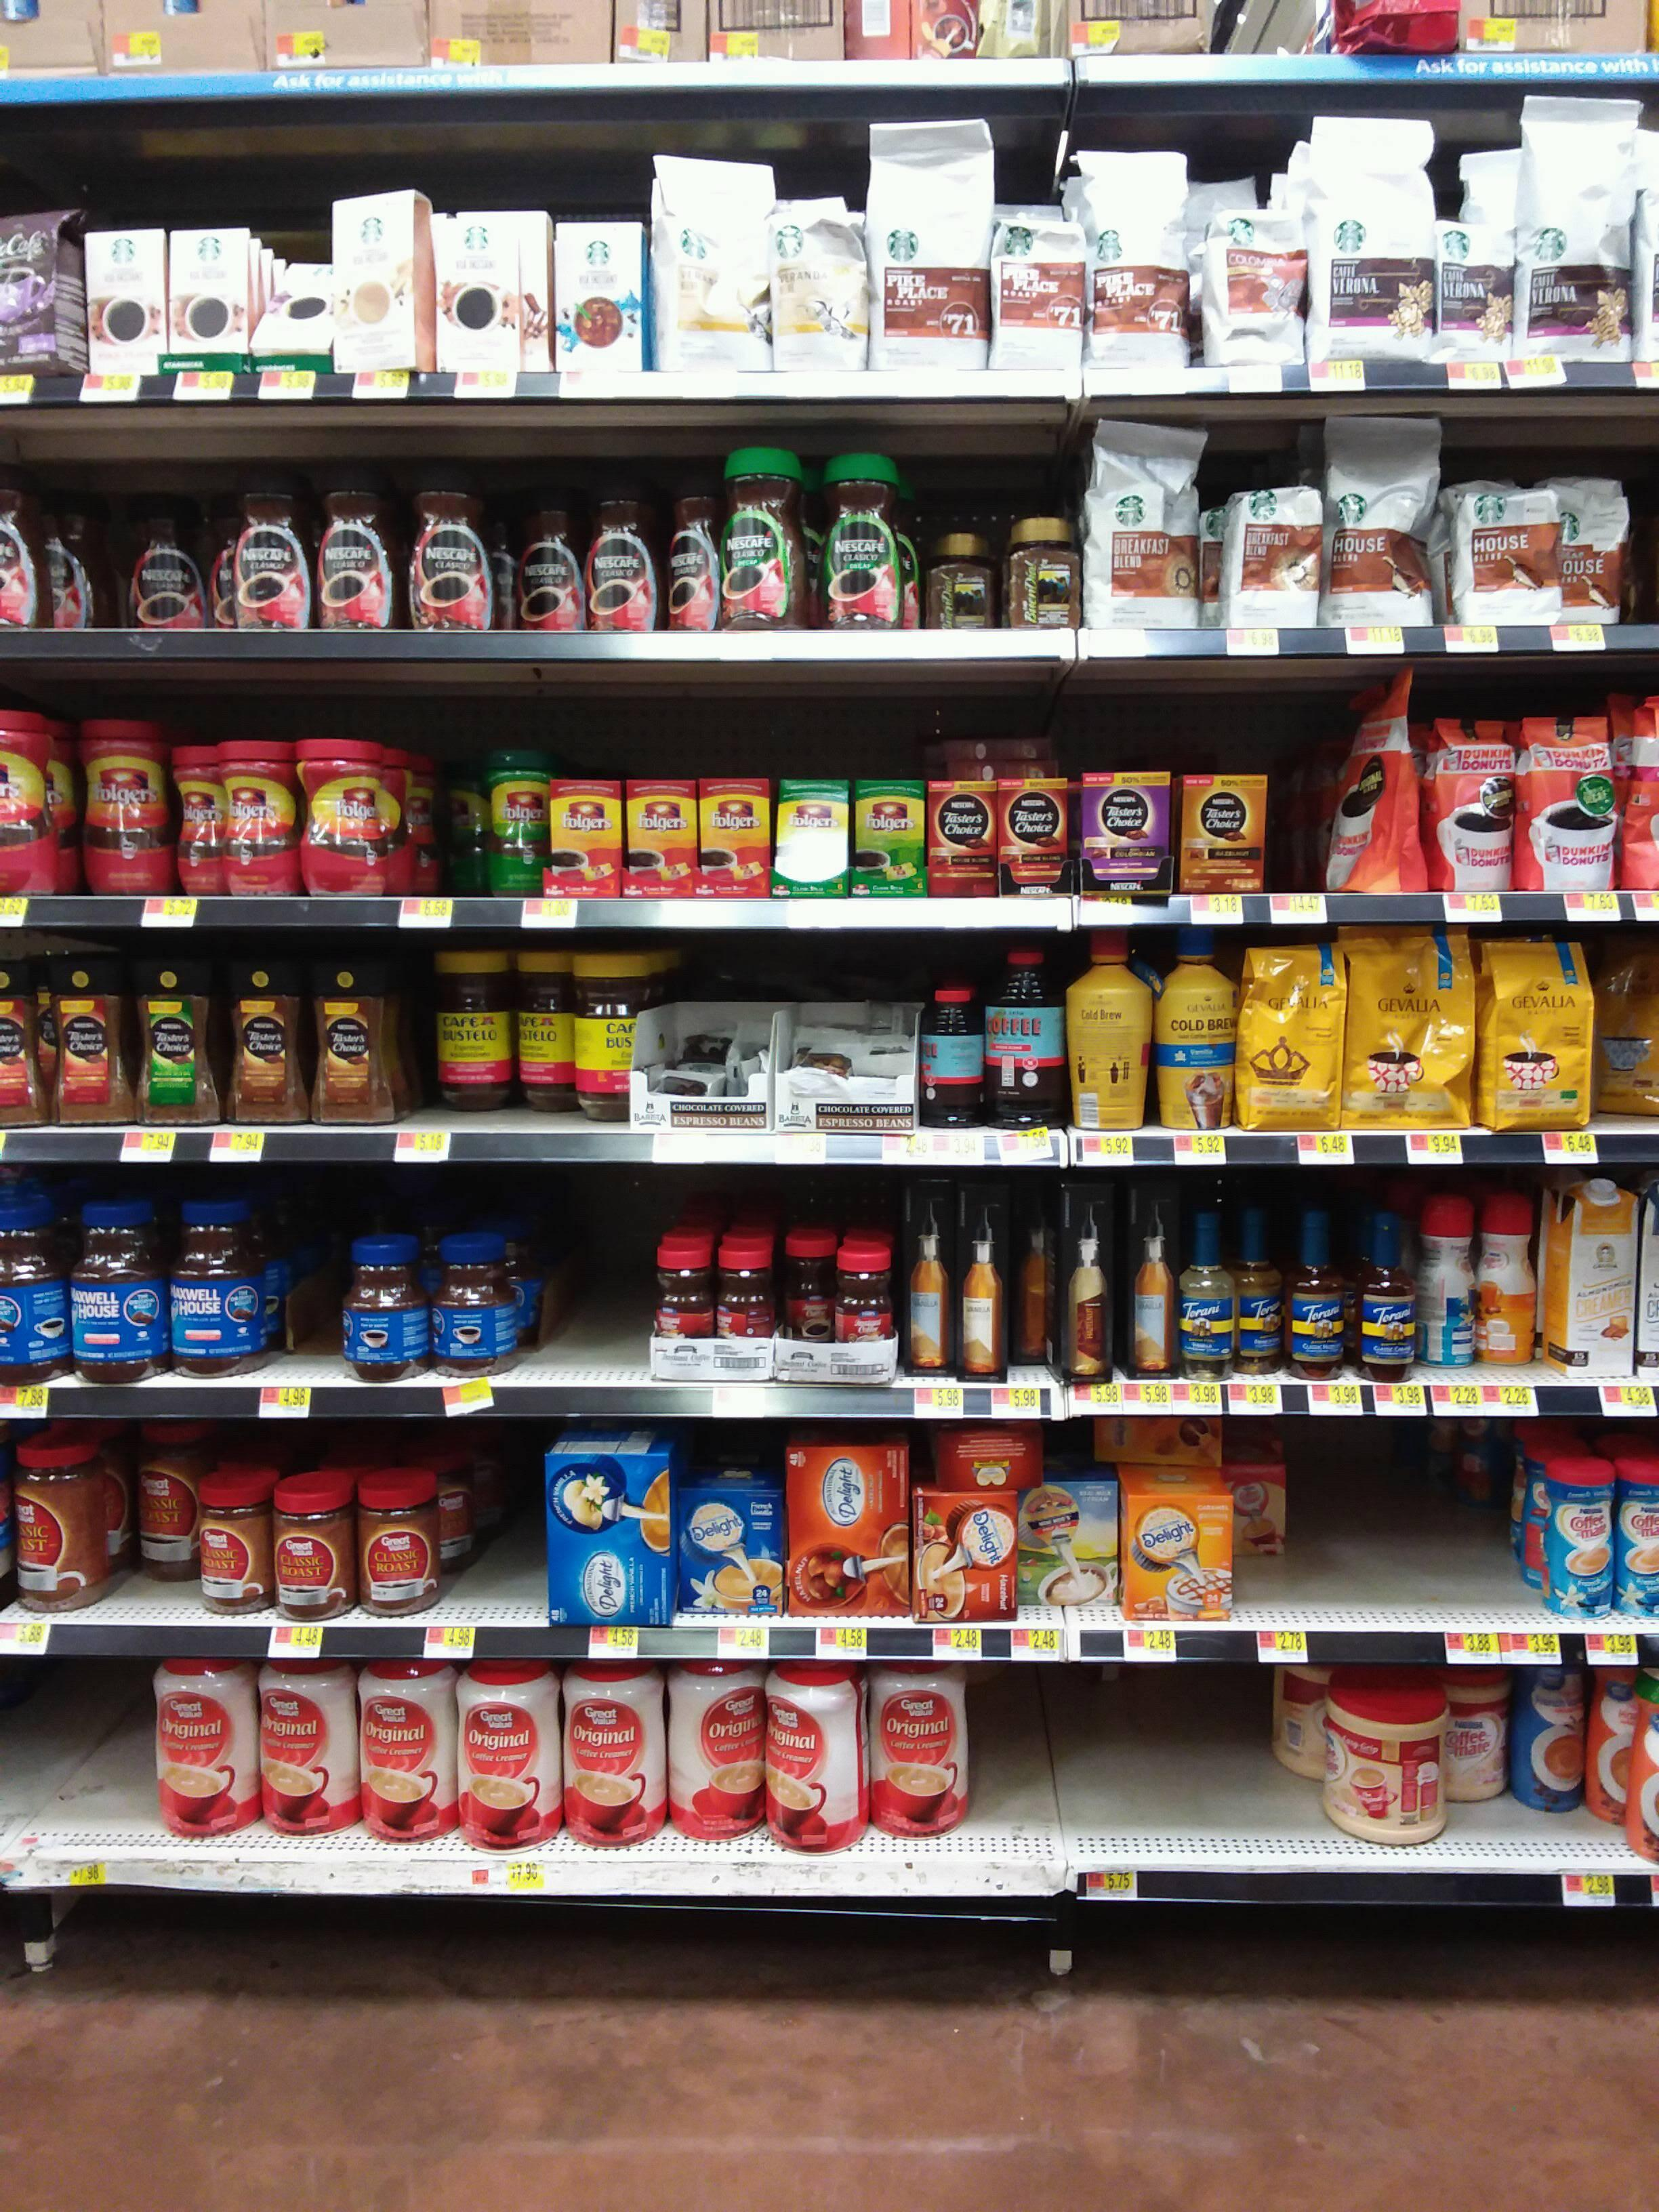empty: (1126, 1670, 1279, 1853), (978, 1665, 1119, 1855), (1455, 1728, 1643, 1864), (17, 1669, 148, 1846), (1415, 1439, 1523, 1613), (1302, 1442, 1410, 1616), (526, 1207, 634, 1381), (443, 1426, 544, 1611), (272, 1195, 355, 1374), (1267, 705, 1335, 895), (422, 766, 493, 897)
